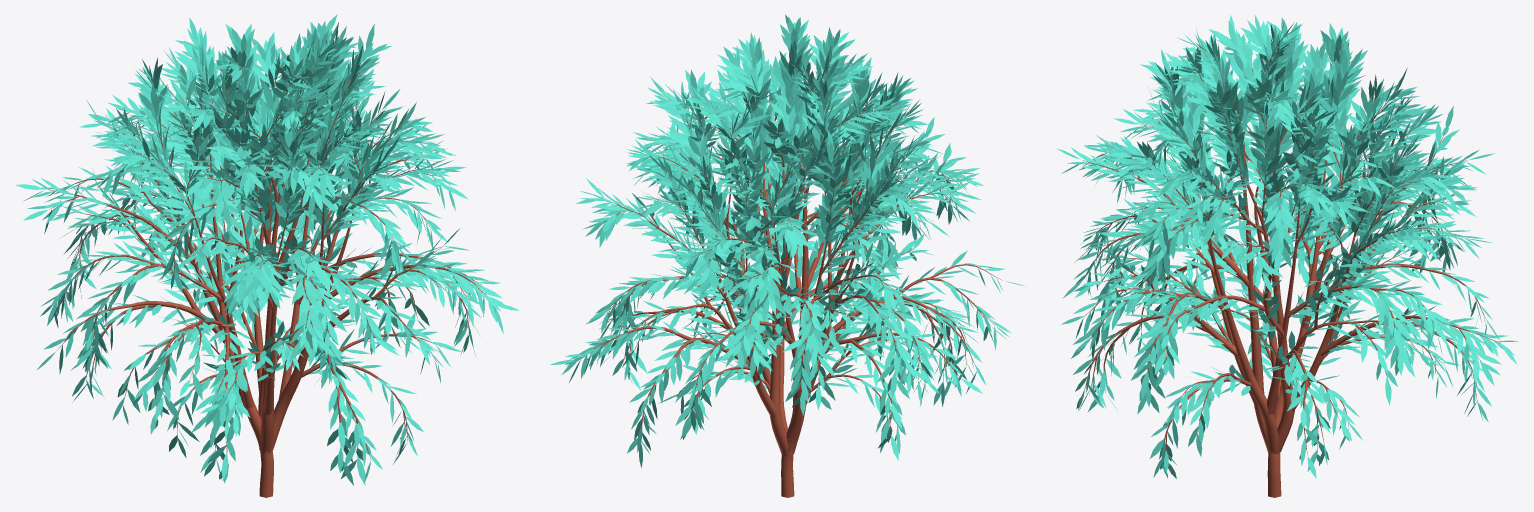
File: Arbol Frutal.fbx
The picture shows the model from 3 angles, left to right: view 1: azimuth 30°, elevation 25°; view 2: azimuth 150°, elevation 25°; view 3: azimuth 270°, elevation 25°; orthographic projection. The views are drawn at different scales.
Visible parts, largest first — view 1: leaves, tree; view 2: leaves, tree; view 3: leaves, tree.
Boxes of the visible parts, x1=… form: leaves: x1=15, y1=14, x2=519, y2=485; tree: x1=46, y1=54, x2=482, y2=497; leaves: x1=550, y1=14, x2=1025, y2=468; tree: x1=581, y1=49, x2=1002, y2=497; leaves: x1=1057, y1=14, x2=1518, y2=478; tree: x1=1082, y1=41, x2=1500, y2=497.
Bounding box in the file's own units: 605 × 593 × 679.
